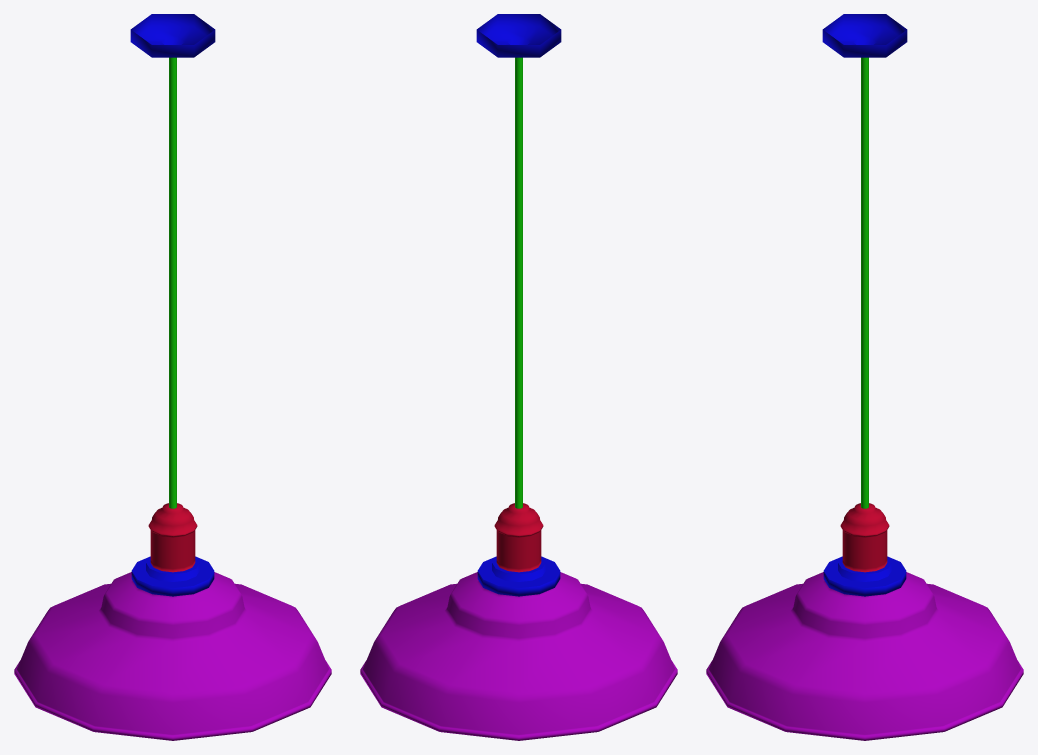
The model's file is Ceiling Light.fbx.
The picture shows the model from 3 angles, left to right: view 1: azimuth 30°, elevation 25°; view 2: azimuth 150°, elevation 25°; view 3: azimuth 270°, elevation 25°; orthographic projection.
Visible parts, largest first — view 1: Ceiling Light; view 2: Ceiling Light; view 3: Ceiling Light.
Boxes of the visible parts, left/top/right/bottom form: Ceiling Light: left=14, top=14, right=331, bottom=740; Ceiling Light: left=360, top=14, right=677, bottom=740; Ceiling Light: left=706, top=14, right=1023, bottom=740.
Size of the model in its own units: 47.15 by 106 by 47.15.
